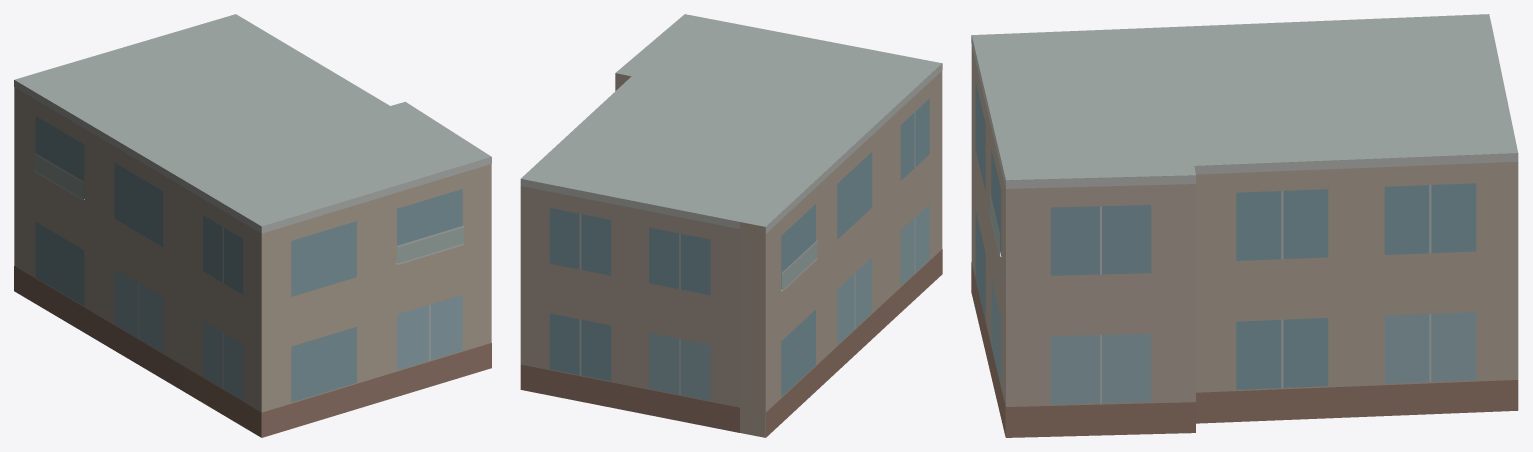
File: survey-upis-32757089.glb
3 renders of one model, left to right at view 1: azimuth 30°, elevation 25°; view 2: azimuth 150°, elevation 25°; view 3: azimuth 270°, elevation 25°, orthographic. The views are drawn at different scales.
Parts seen in each view (by area): view 1: survey-upis-32757089.tmp; view 2: survey-upis-32757089.tmp; view 3: survey-upis-32757089.tmp.
Part boxes in pixels (x1,y1,x2,y2): survey-upis-32757089.tmp: [14, 14, 491, 437]; survey-upis-32757089.tmp: [520, 14, 942, 437]; survey-upis-32757089.tmp: [971, 14, 1518, 437].
Size of the model in its own units: 9.97 by 7.2 by 13.85.
